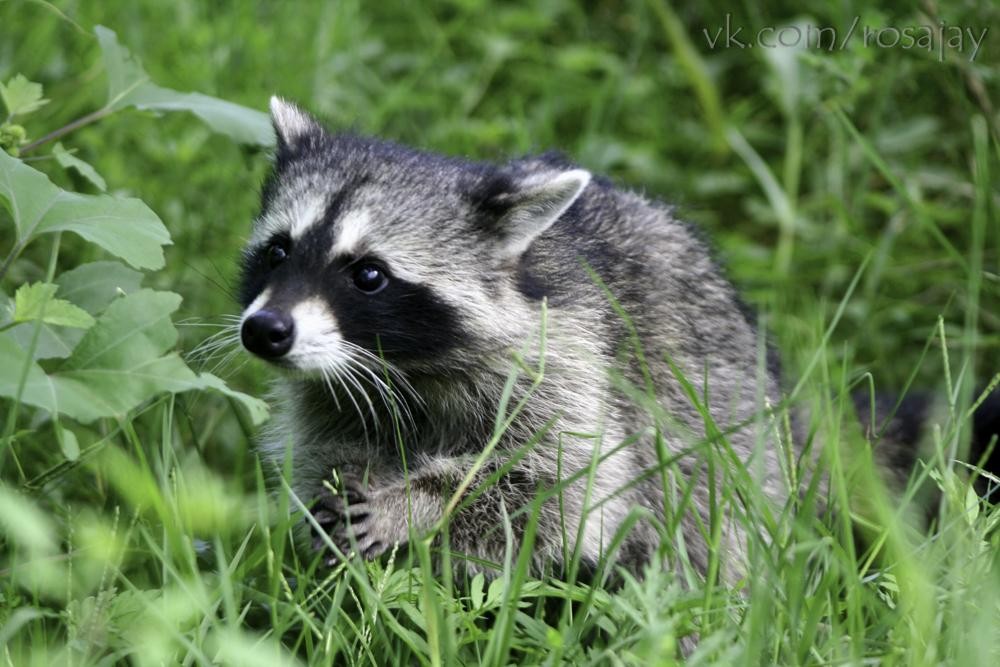raccoon: (225, 89, 843, 617)
